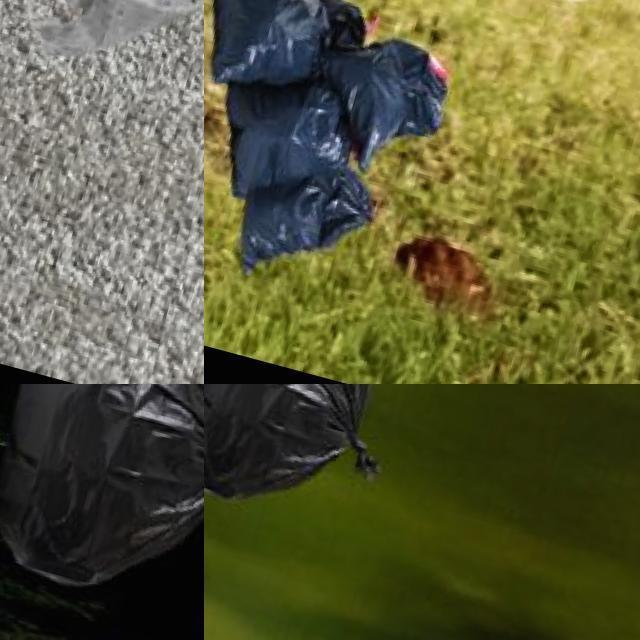waste: (0, 384, 204, 607), (204, 384, 427, 539), (226, 155, 392, 302), (315, 35, 459, 183), (204, 70, 365, 196), (0, 0, 204, 91), (204, 0, 371, 89)
